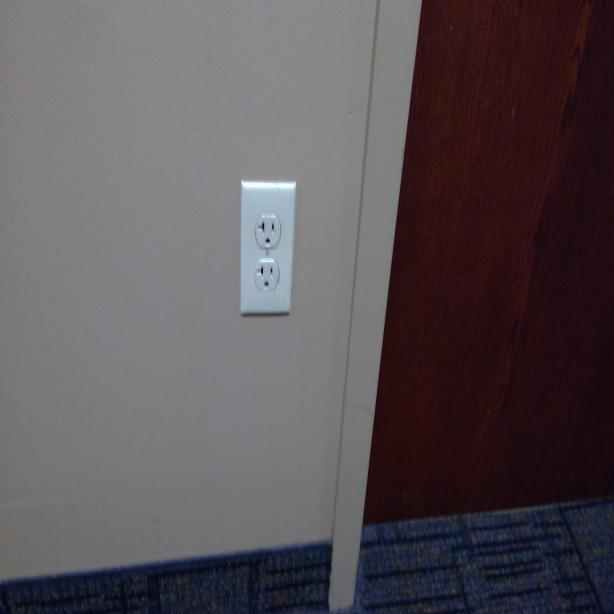typeb: (255, 213, 279, 251), (252, 261, 278, 296)
